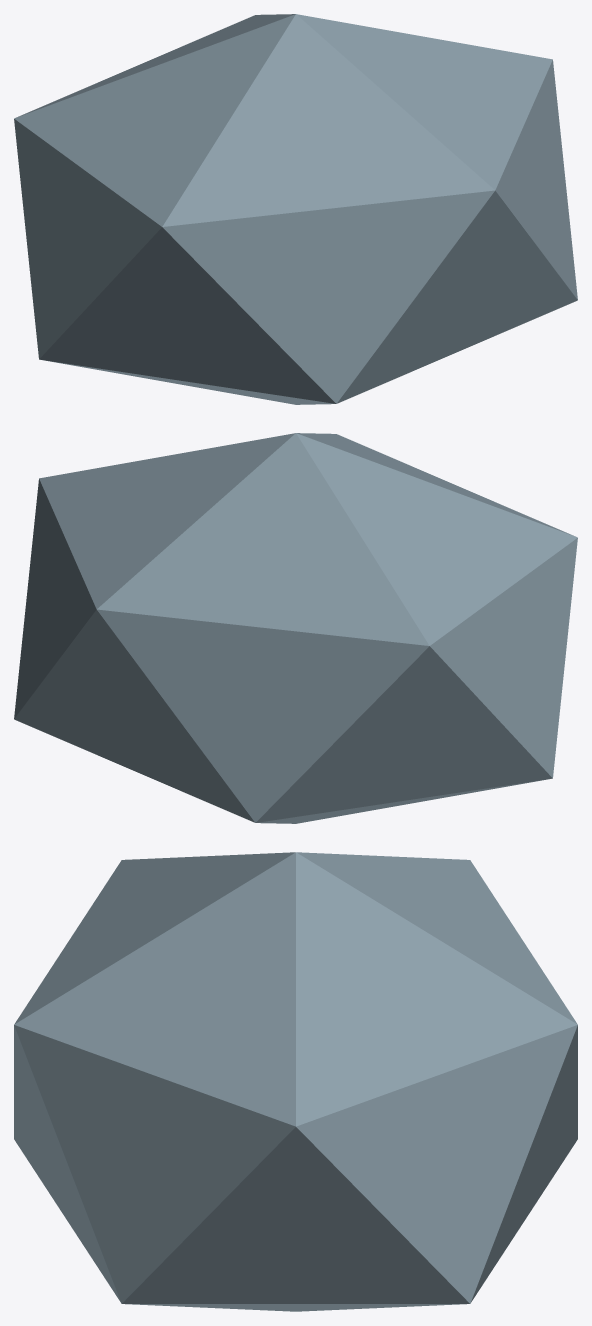
File: DW_Rock.fbx
The picture shows the model from 3 angles, top to bottom: view 1: azimuth 30°, elevation 25°; view 2: azimuth 150°, elevation 25°; view 3: azimuth 270°, elevation 25°; orthographic projection. The views are drawn at different scales.
Visible parts, largest first — view 1: DW_Rock; view 2: DW_Rock; view 3: DW_Rock.
Part boxes in pixels (<box>): DW_Rock: <box>14,14,577,404</box>; DW_Rock: <box>14,433,577,823</box>; DW_Rock: <box>14,852,577,1311</box>.
Bounding box in the file's own units: 0.3935 × 0.286 × 0.3181.
